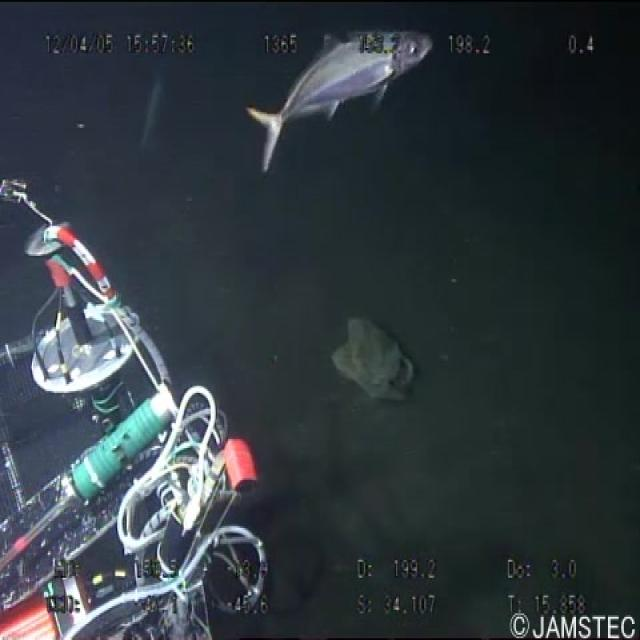plastic: (327, 311, 421, 405)
